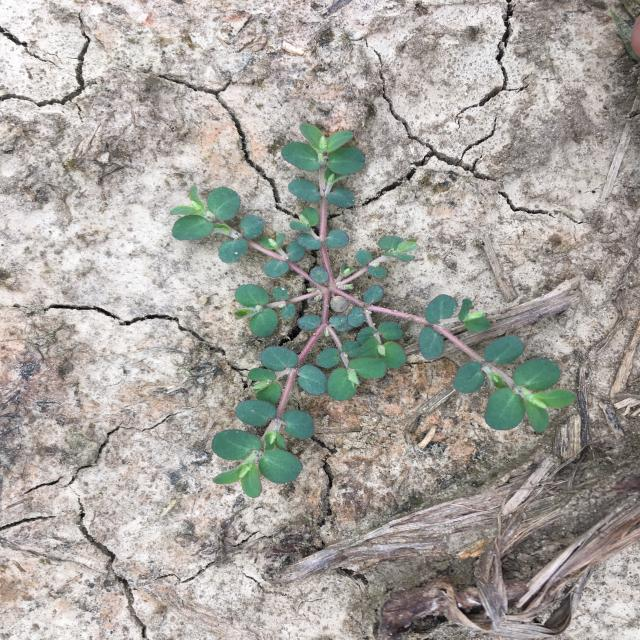SpottedSpurge: (170, 123, 578, 499)
